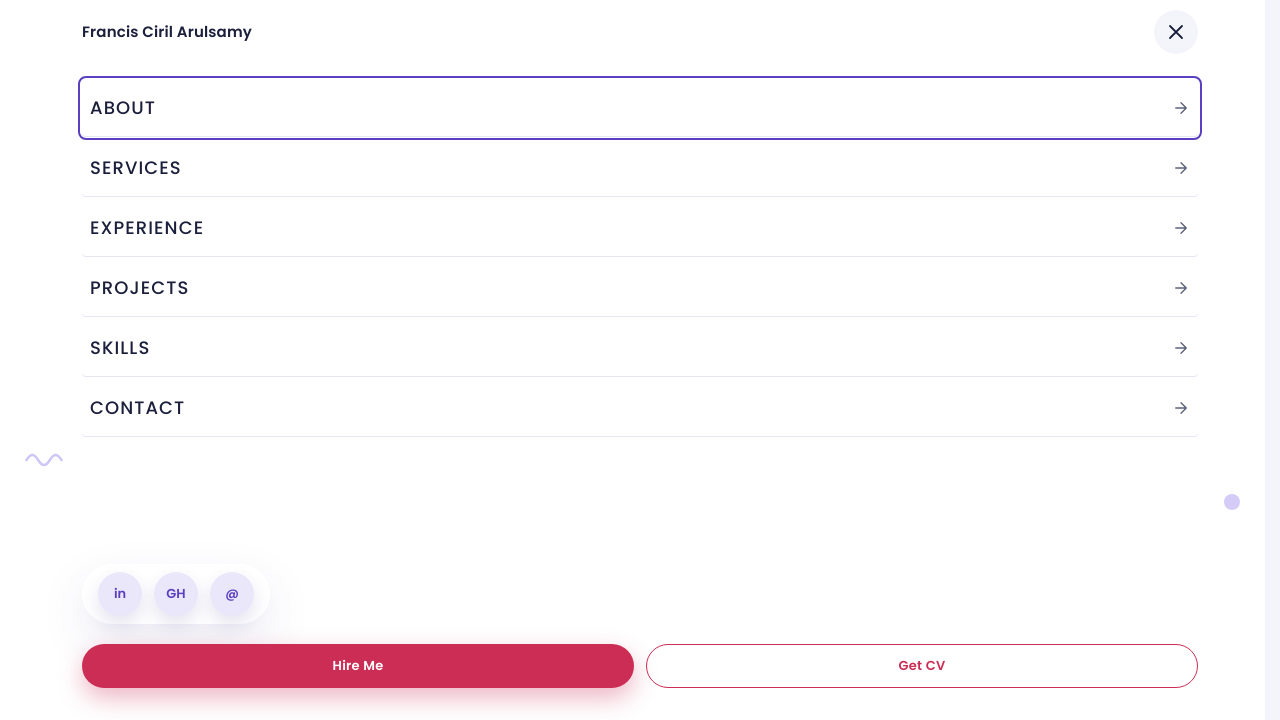
it: MenuSheet › closes from the close button
Earlier steps of the test are not shown.
Step 1. Click the button named "Close menu" → (1176, 32), box top-left (1154, 10), bottom-right (1198, 54)
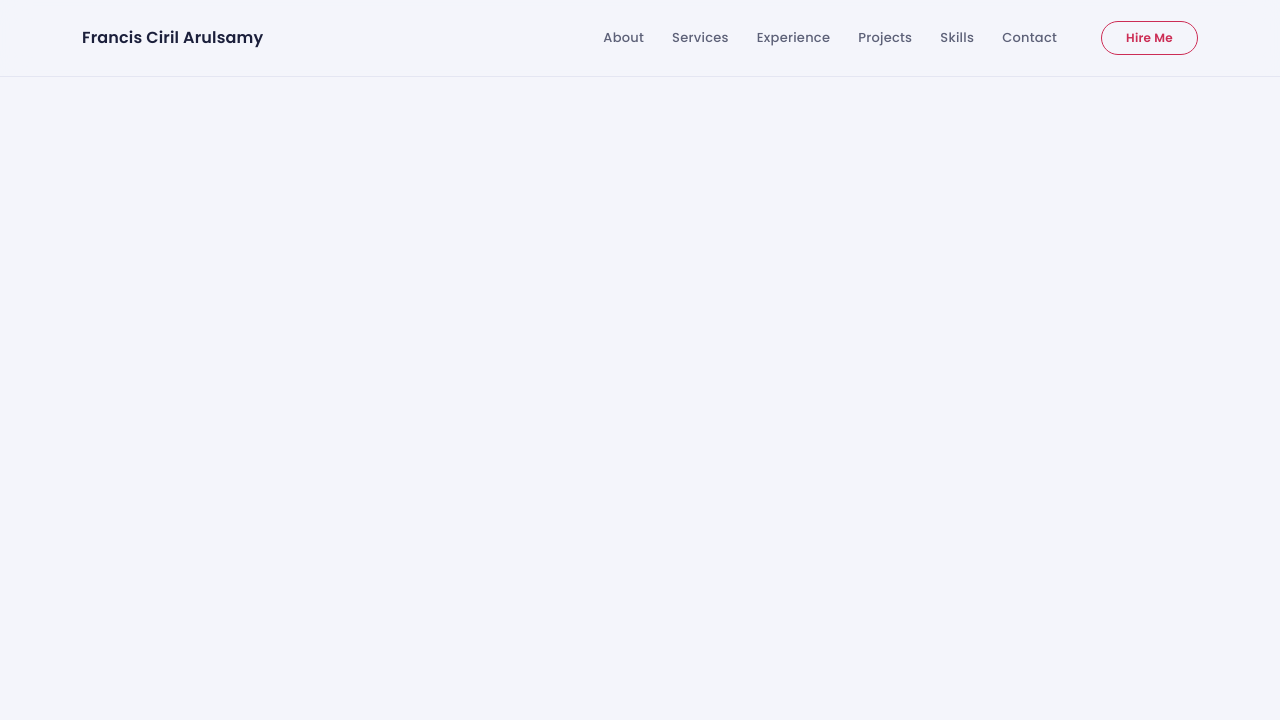
Check: the dialog is gone
